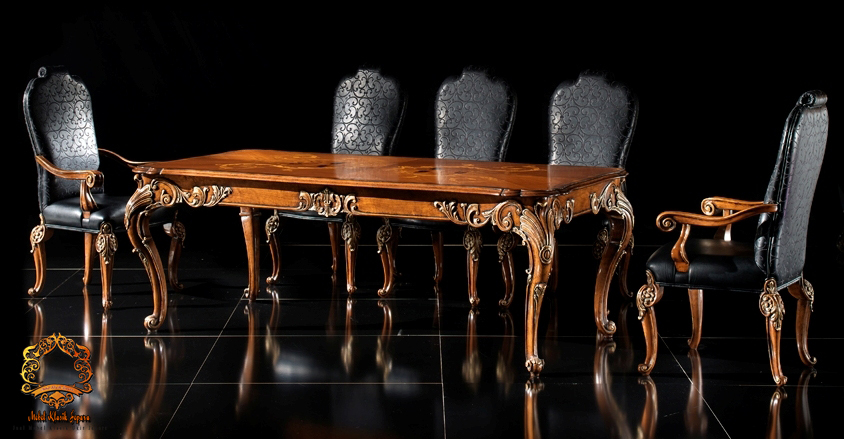Carving Chair: (659, 96, 844, 380), (16, 65, 160, 308)
Carving Table: (134, 147, 638, 381)
